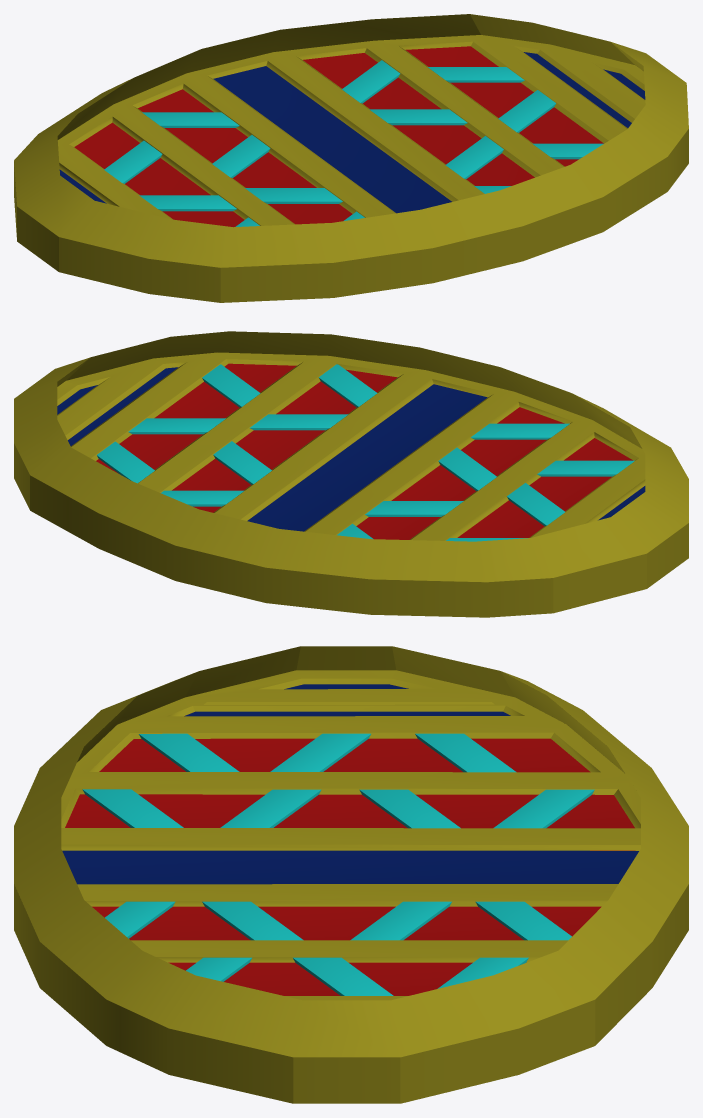
File: dernier rooftop.fbx
3 renders of one model, top to bottom at view 1: azimuth 30°, elevation 25°; view 2: azimuth 150°, elevation 25°; view 3: azimuth 270°, elevation 25°, orthographic. The views are drawn at different scales.
Visible parts, largest first — view 1: Box048; view 2: Box048; view 3: Box048.
Boxes of the visible parts, x1,y1,x2,y2 form: Box048: [14, 14, 688, 302]; Box048: [14, 331, 688, 617]; Box048: [14, 646, 688, 1103].
Size of the model in its own units: 21321 by 1926 by 15015.
